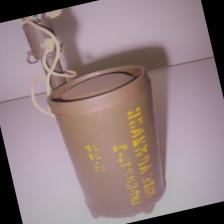M2A1: (3, 0, 190, 224)
